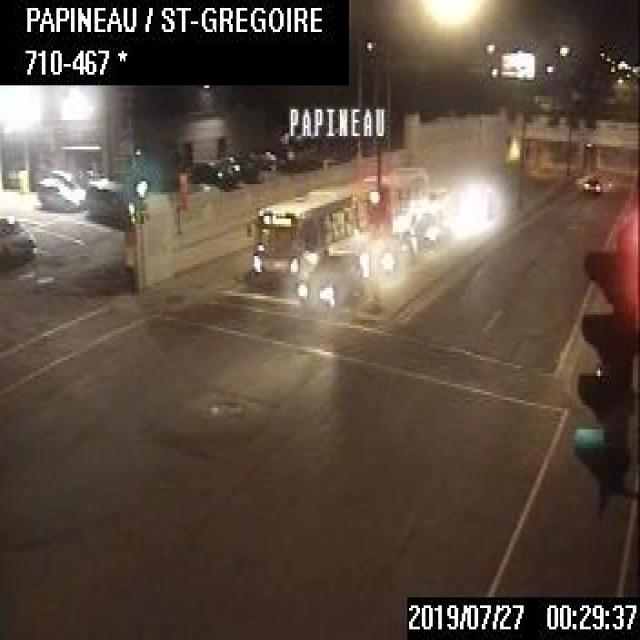bus: (244, 161, 430, 286)
vehicle: (291, 245, 363, 311), (82, 175, 148, 228), (354, 236, 406, 276), (0, 217, 36, 270), (34, 174, 82, 212), (192, 153, 236, 190), (580, 173, 602, 193)
